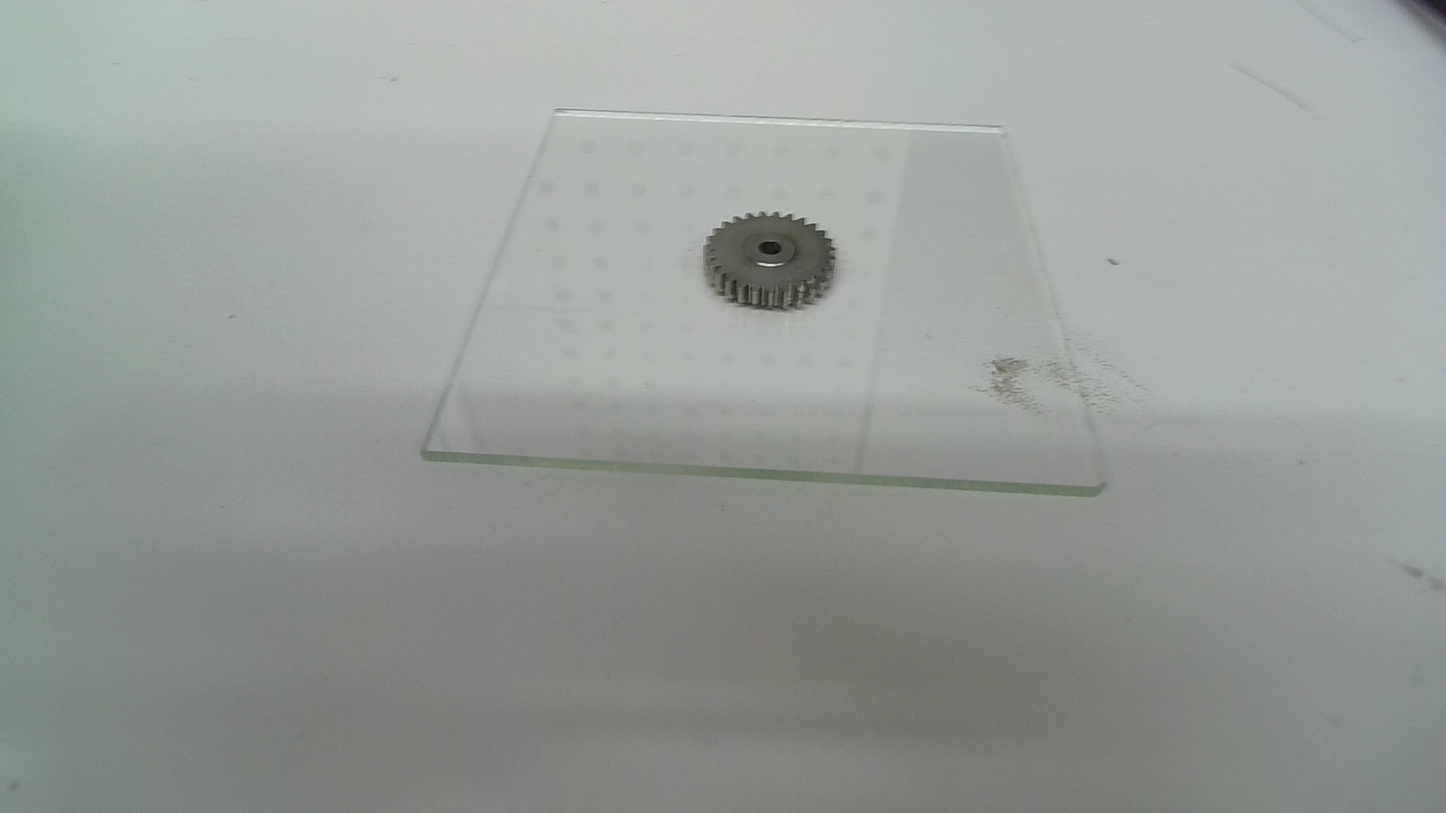gear: (701, 209, 840, 312)
